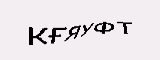З: (32, 26, 46, 52)
П: (44, 21, 70, 54), (95, 27, 112, 53)
С: (112, 26, 131, 50)
Ф: (71, 19, 97, 55)
